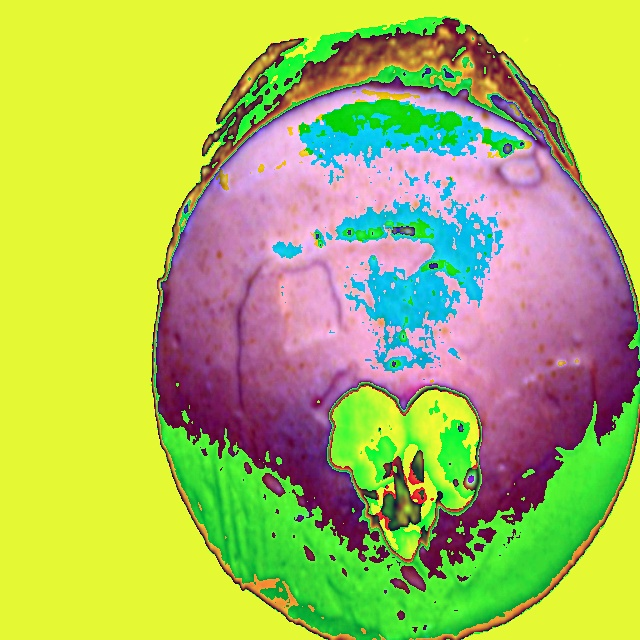background: (150, 14, 639, 639)
